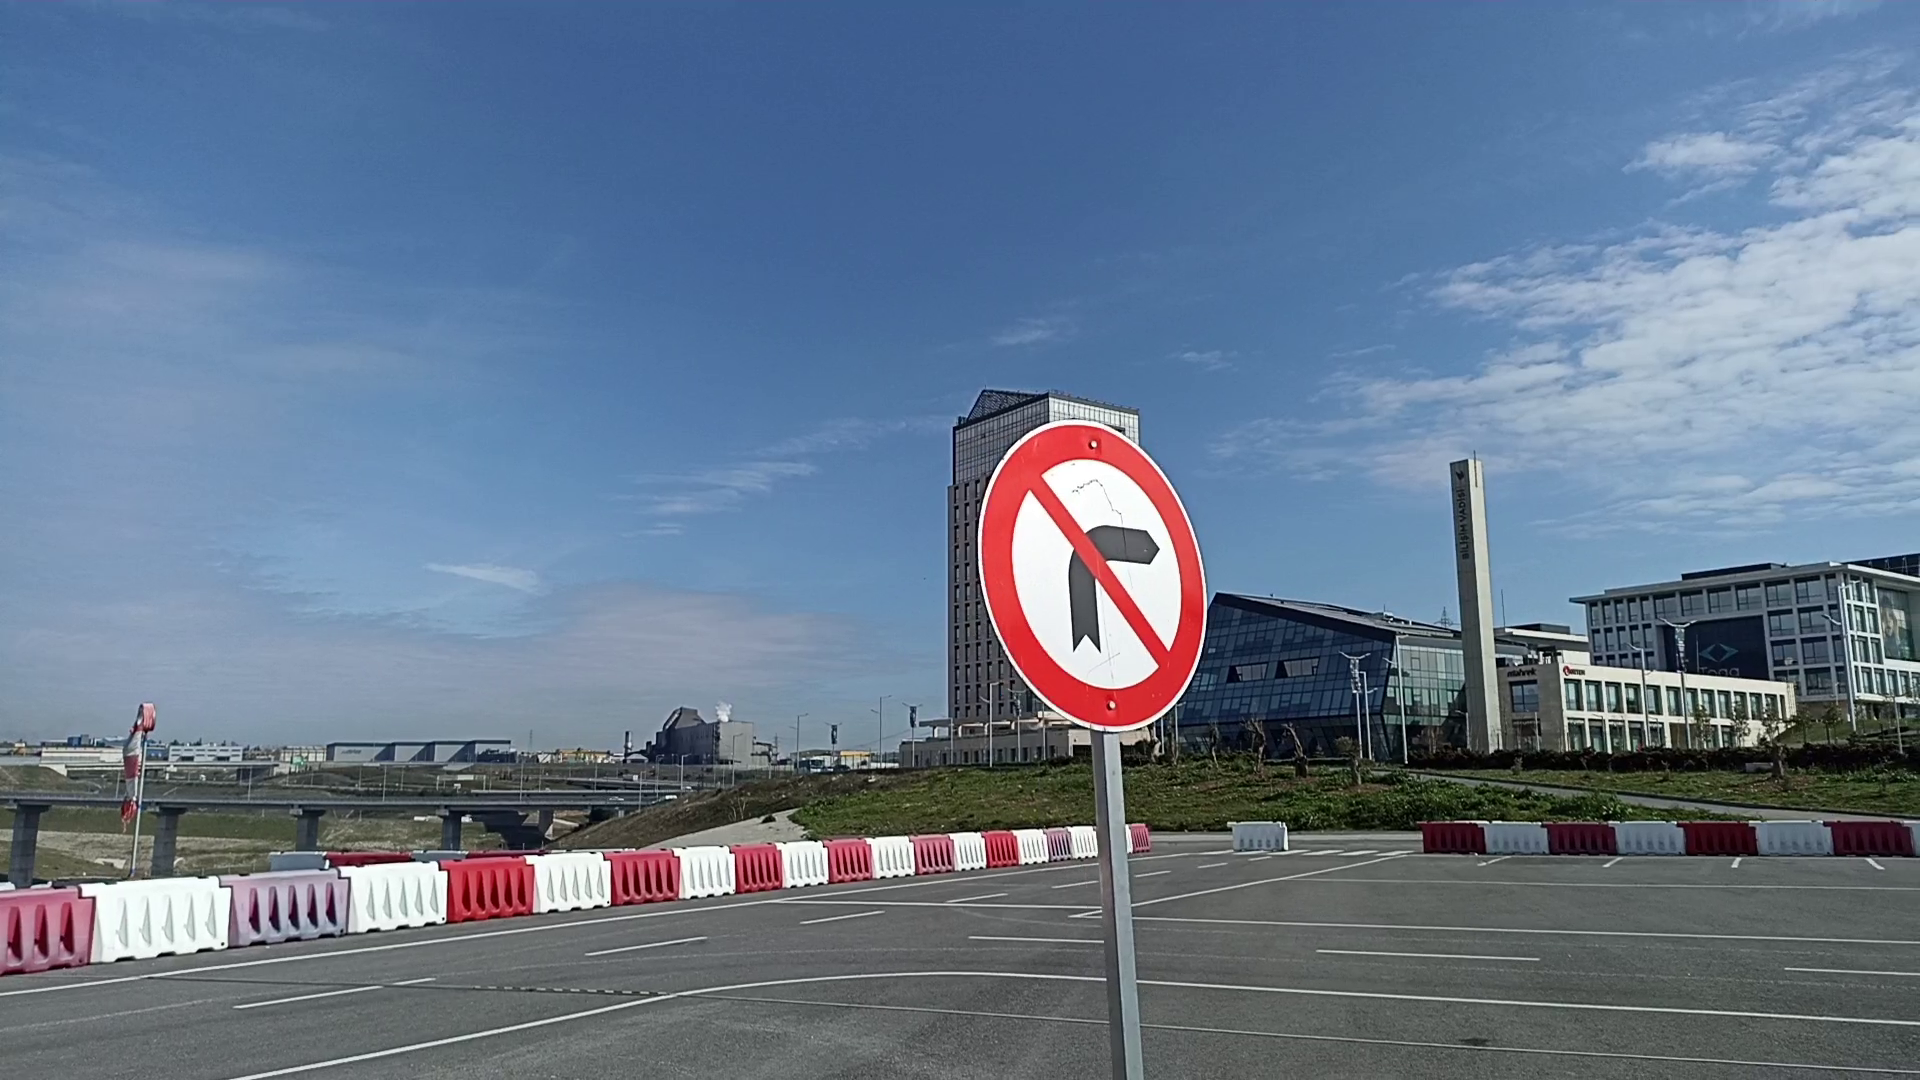noleftturn: (972, 415, 1215, 735)
